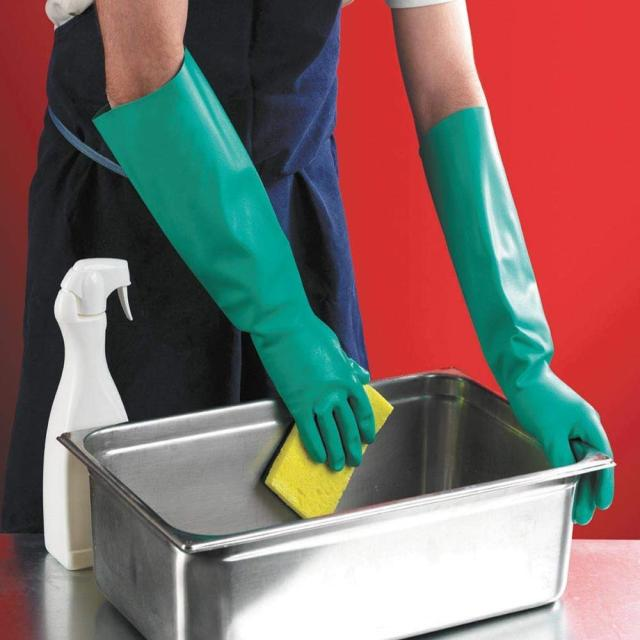gloves: (94, 49, 376, 474), (422, 109, 614, 526)
